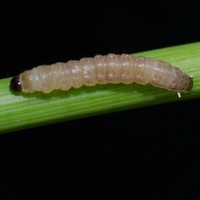insect: (10, 54, 192, 92)
